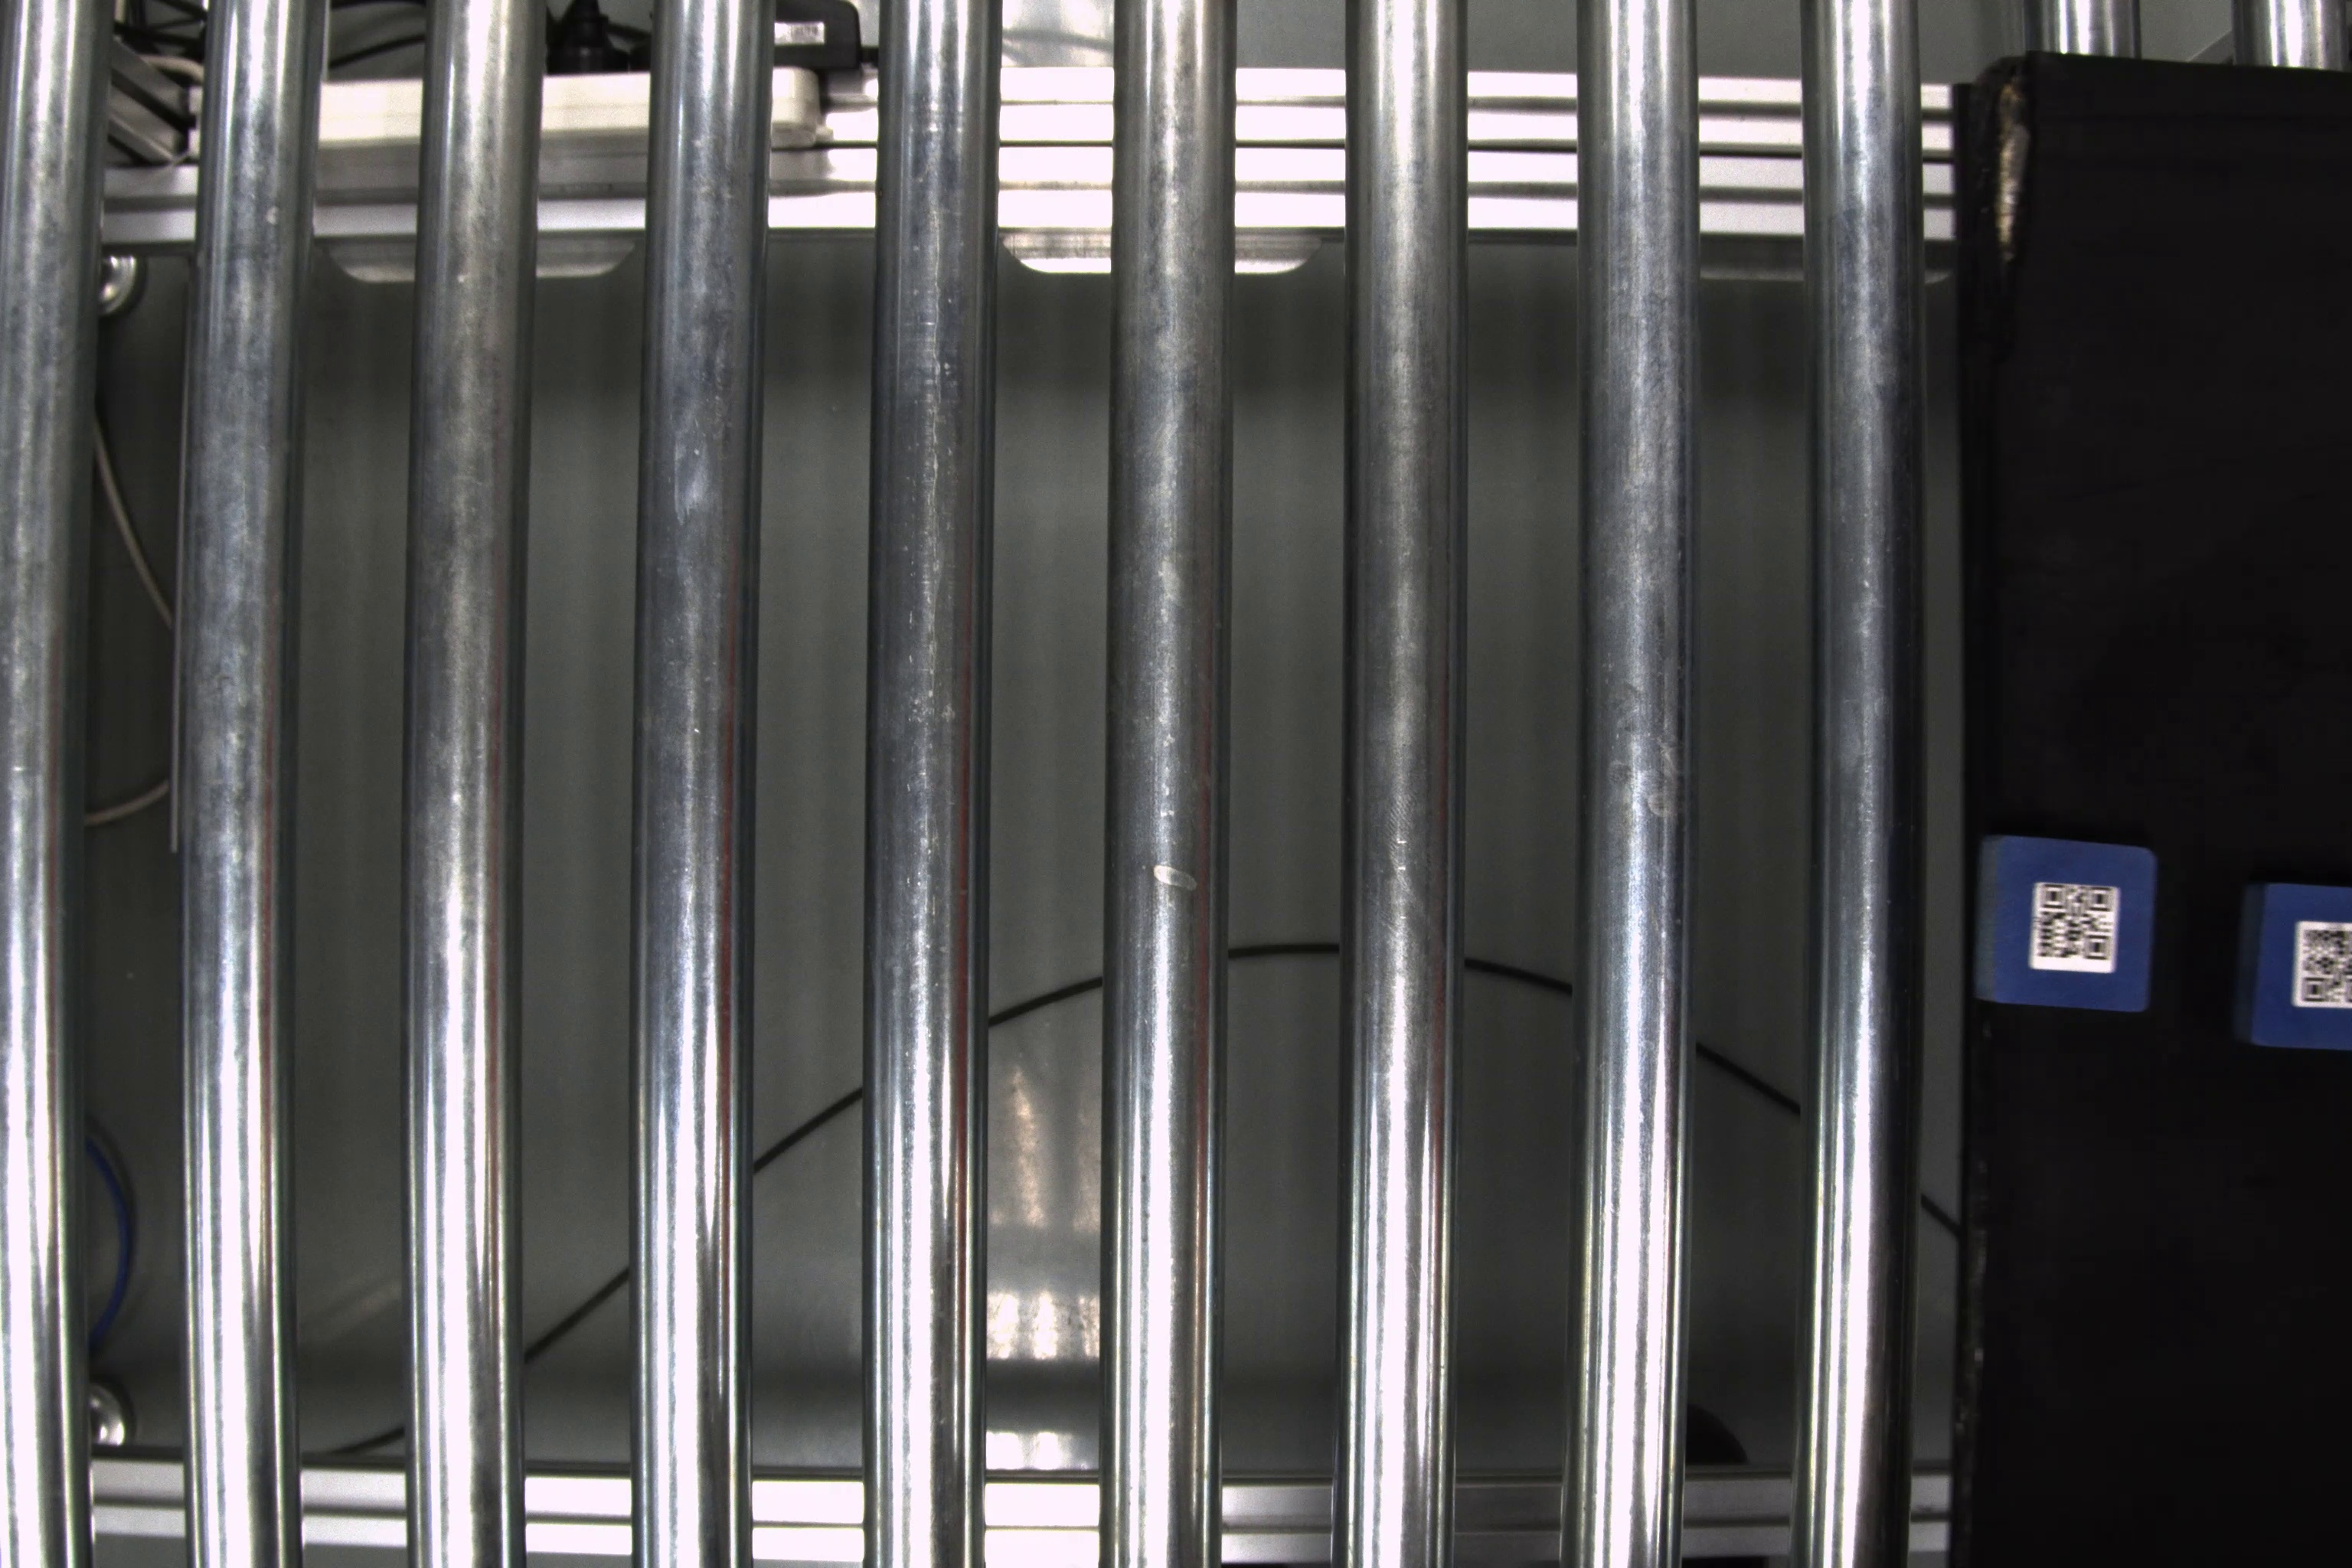wood: (1970, 829, 2158, 1020), (2243, 882, 2347, 1059)
